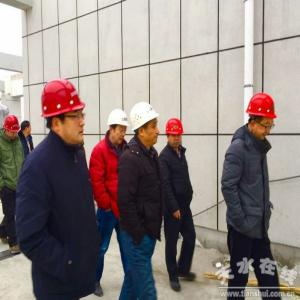none: (21, 121, 33, 138)
red: (44, 80, 88, 149), (246, 93, 278, 138), (165, 119, 185, 148), (3, 114, 20, 140)
white: (132, 102, 160, 144), (107, 108, 128, 144)
